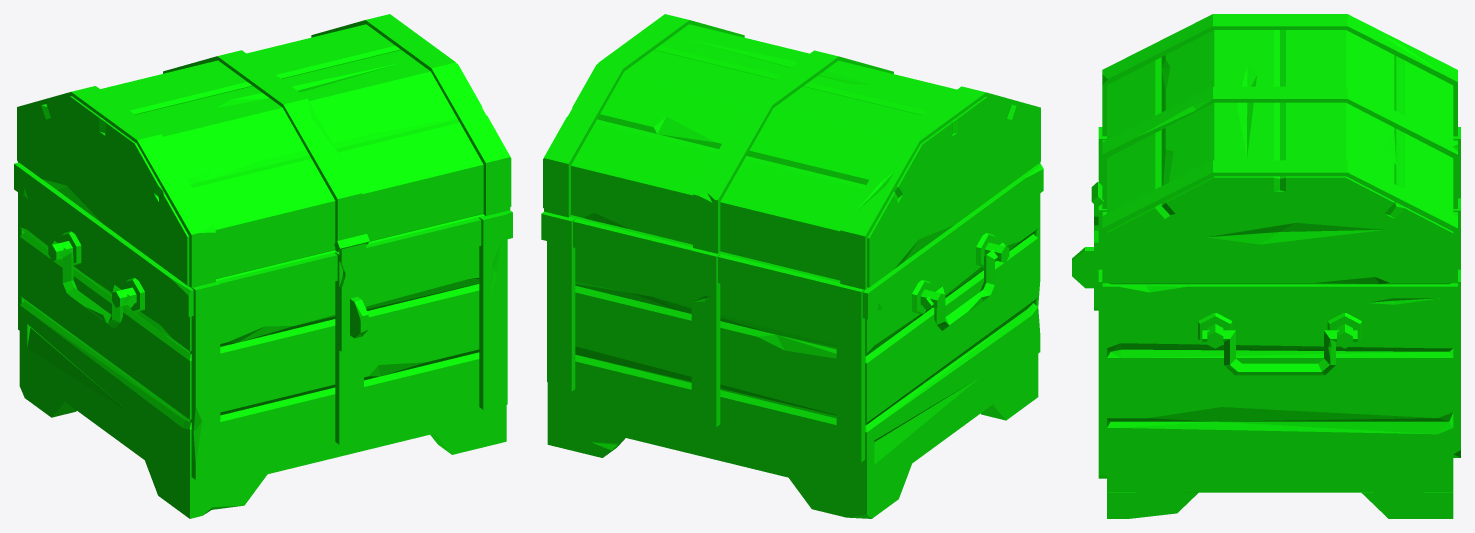
Rendered from SM_Chest_Wooden_Round_Small_Narrow_Fantasy.fbx.
3 renders of one model, left to right at view 1: azimuth 30°, elevation 25°; view 2: azimuth 150°, elevation 25°; view 3: azimuth 270°, elevation 25°, orthographic.
Parts seen in each view (by area): view 1: chest-wooden-small-narrow-base-fantasy, chest-wooden-small-narrow-lid-fantasy; view 2: chest-wooden-small-narrow-base-fantasy, chest-wooden-small-narrow-lid-fantasy; view 3: chest-wooden-small-narrow-lid-fantasy, chest-wooden-small-narrow-base-fantasy.
Part boxes in pixels (box(x1,y1,x2,y2)): chest-wooden-small-narrow-base-fantasy: box(14, 162, 512, 518); chest-wooden-small-narrow-lid-fantasy: box(17, 14, 511, 357); chest-wooden-small-narrow-base-fantasy: box(541, 163, 1043, 518); chest-wooden-small-narrow-lid-fantasy: box(543, 14, 1040, 289); chest-wooden-small-narrow-lid-fantasy: box(1091, 14, 1457, 310); chest-wooden-small-narrow-base-fantasy: box(1072, 127, 1460, 518).
Bounding box in the file's own units: 0.8788 × 0.7989 × 0.8108.
